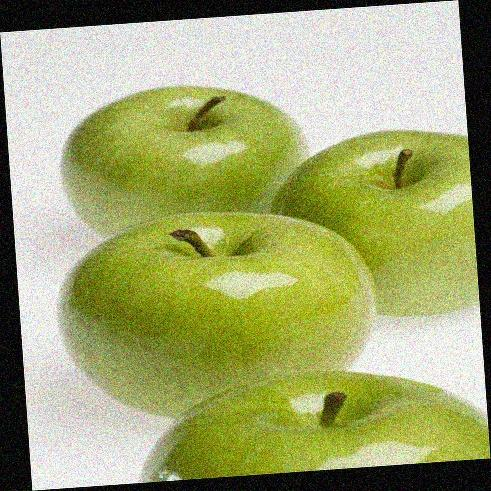green apple: (57, 211, 387, 420), (272, 128, 474, 322), (125, 371, 487, 471), (57, 83, 307, 225)
